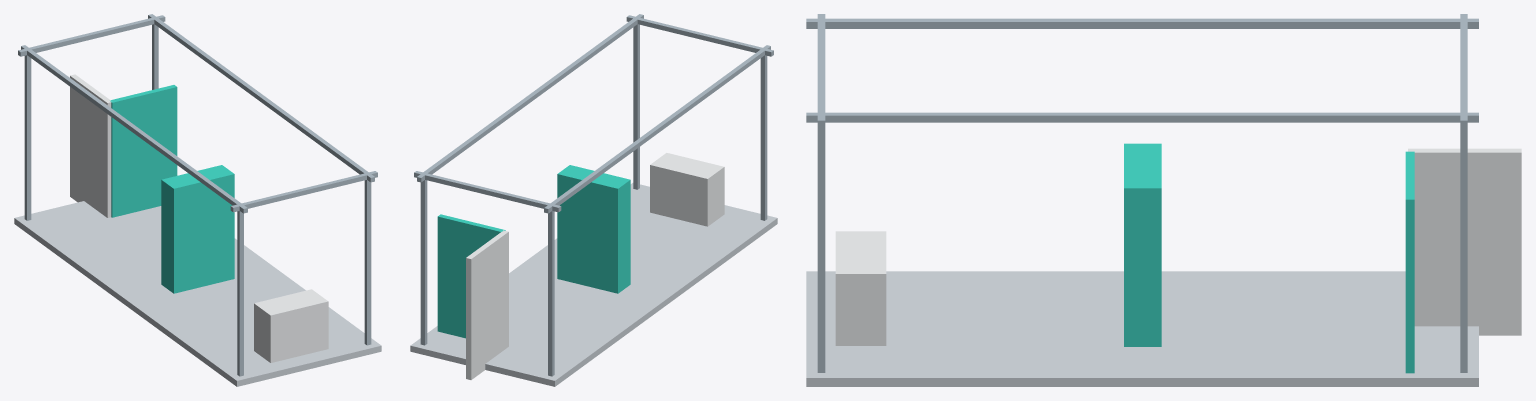
The picture shows the model from 3 angles, left to right: view 1: azimuth 30°, elevation 25°; view 2: azimuth 150°, elevation 25°; view 3: azimuth 270°, elevation 25°; orthographic projection. The views are drawn at different scales.
Visible parts, largest first — view 1: Exhibition Booth Concept; view 2: Exhibition Booth Concept; view 3: Exhibition Booth Concept.
Part boxes in pixels (left/top/right/bottom): Exhibition Booth Concept: left=14, top=14, right=381, bottom=386; Exhibition Booth Concept: left=410, top=14, right=777, bottom=386; Exhibition Booth Concept: left=806, top=14, right=1521, bottom=386.
Bounding box in the file's own units: 3 × 3.49 × 8.51.
